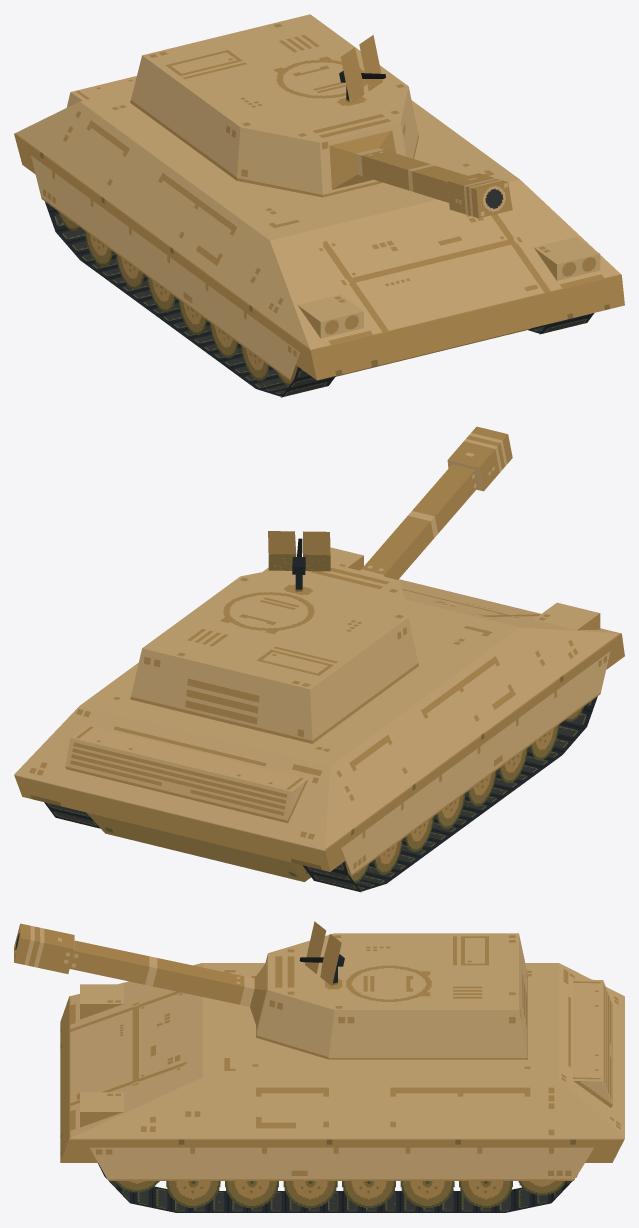
File: low_poly_tank_.glb
3 renders of one model, top to bottom at view 1: azimuth 30°, elevation 25°; view 2: azimuth 150°, elevation 25°; view 3: azimuth 270°, elevation 25°, orthographic. The views are drawn at different scales.
Parts seen in each view (by area): view 1: Base, Top, Tracks, Details, Turrent; view 2: Base, Top, Tracks, Turrent, Details; view 3: Base, Top, Tracks, Details, Turrent.
Boxes of the visible parts, bbox=[...] form: Base: bbox=[14, 76, 624, 380]; Top: bbox=[130, 14, 512, 218]; Tracks: bbox=[31, 155, 594, 397]; Details: bbox=[297, 236, 600, 338]; Turrent: bbox=[339, 35, 385, 103]; Base: bbox=[14, 567, 624, 881]; Top: bbox=[130, 426, 512, 743]; Tracks: bbox=[44, 651, 610, 892]; Turrent: bbox=[268, 531, 330, 591]; Details: bbox=[330, 547, 600, 630]; Base: bbox=[60, 963, 624, 1162]; Top: bbox=[14, 923, 527, 1059]; Tracks: bbox=[90, 1147, 593, 1212]; Details: bbox=[80, 984, 123, 1127]; Turrent: bbox=[299, 921, 344, 986].
Bounding box in the file's own units: 1.53 × 1.13 × 2.77.
1 material, 1 textured.
